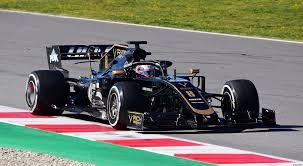f1_car: (19, 36, 302, 136)
